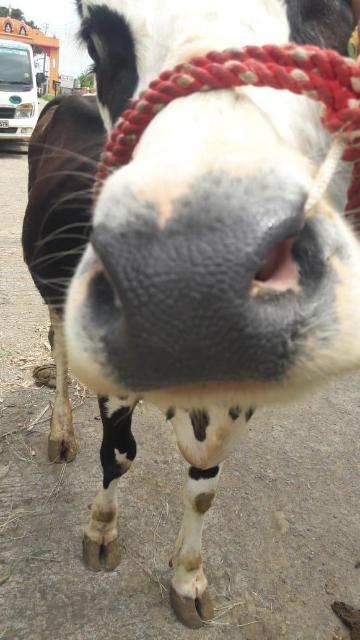Muzzle: (95, 220, 296, 388)
